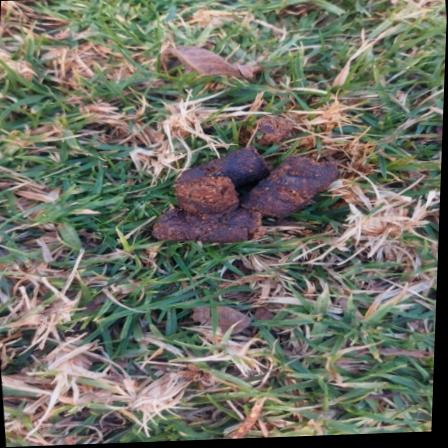dog-poop: (143, 128, 339, 248)
